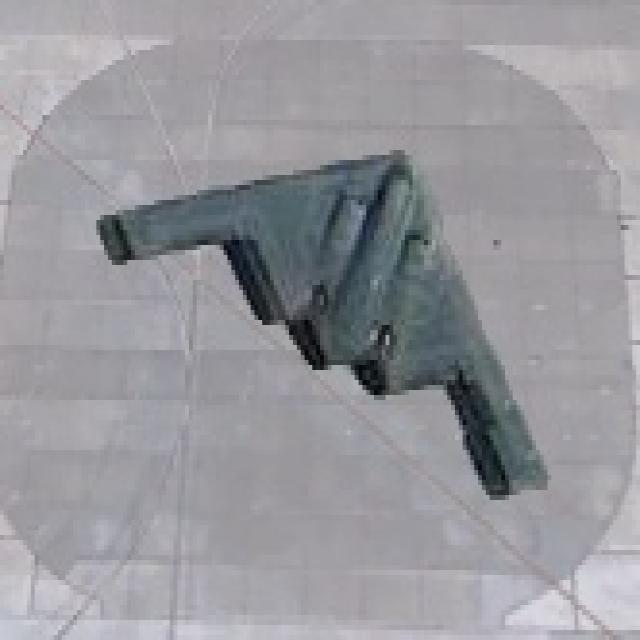B-2_TopDown: (93, 140, 552, 500)
